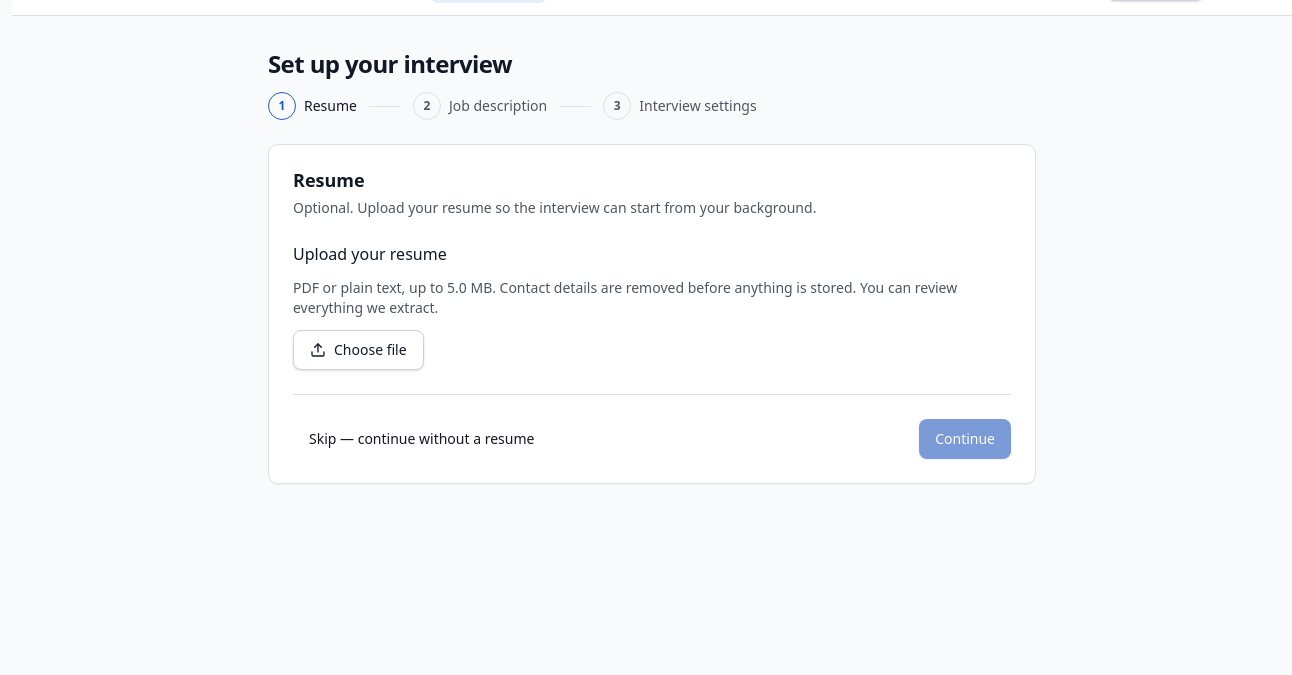
Test: setup wizard — interview settings › ignores a double click on start
Click the button "Skip — continue without a resume": (422, 438) [293,418,550,458]
(page scrolled)
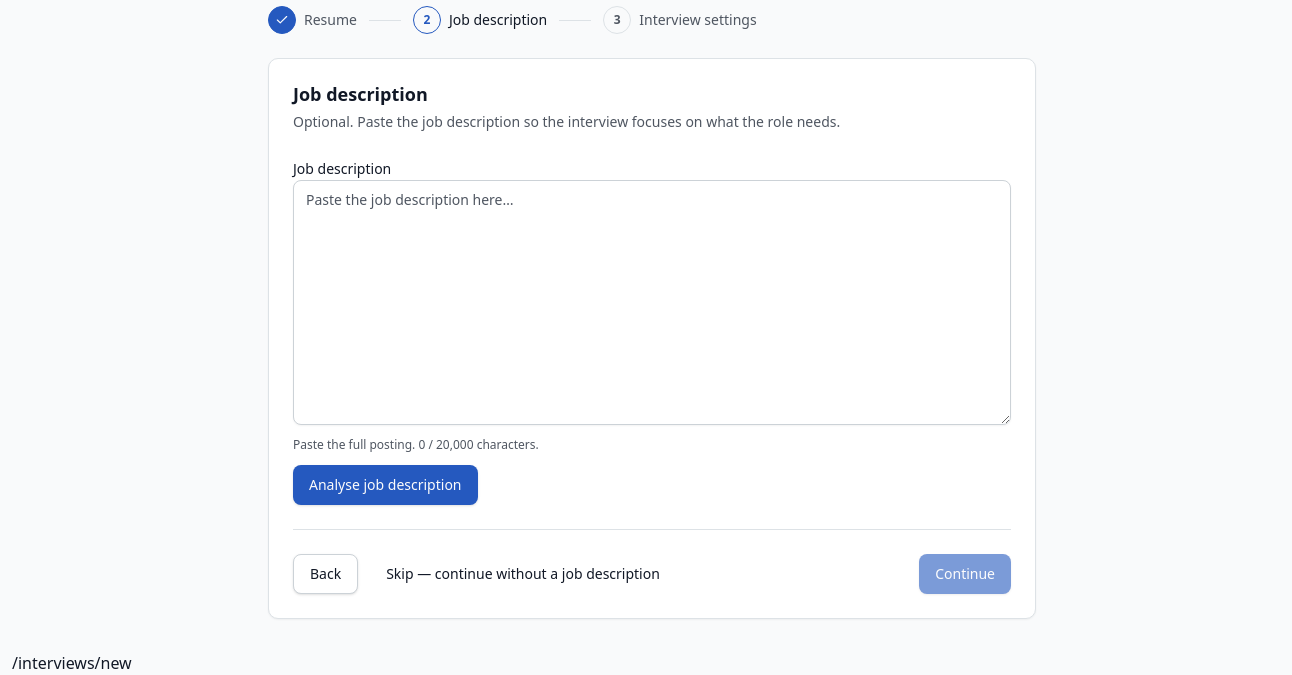
Click the button "Skip — continue without a job description": (523, 574) [370,554,676,594]
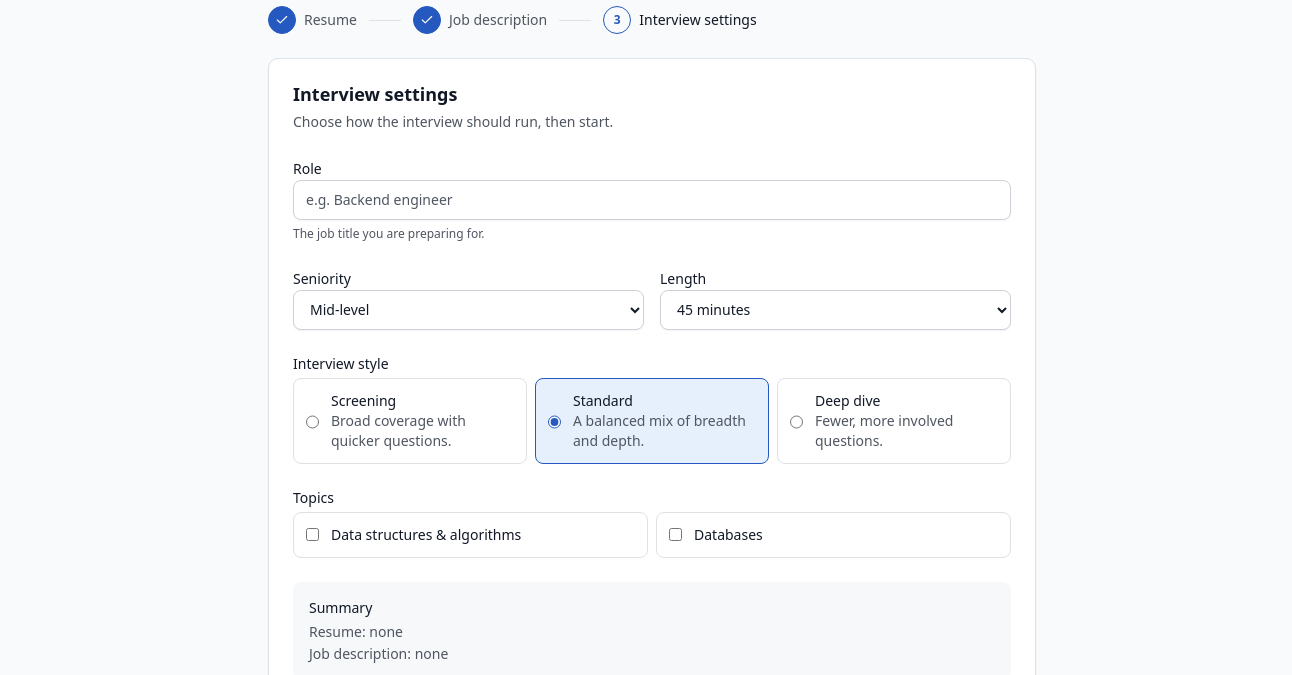
Result: the field labelled "Role" is shown
In the field labelled "Role": (652, 200) [293,180,1011,220], type "Engineer"
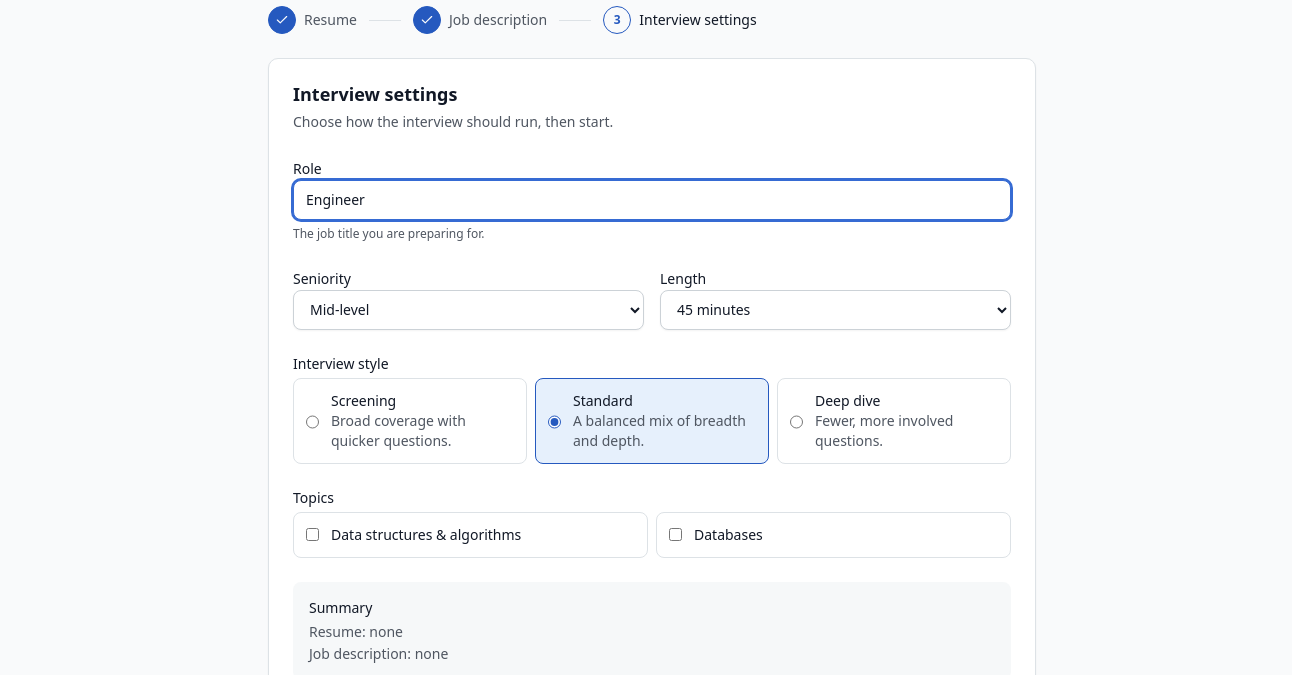
Click the checkbox labelled "Databases": (676, 534) [669,528,682,541]
(page scrolled)
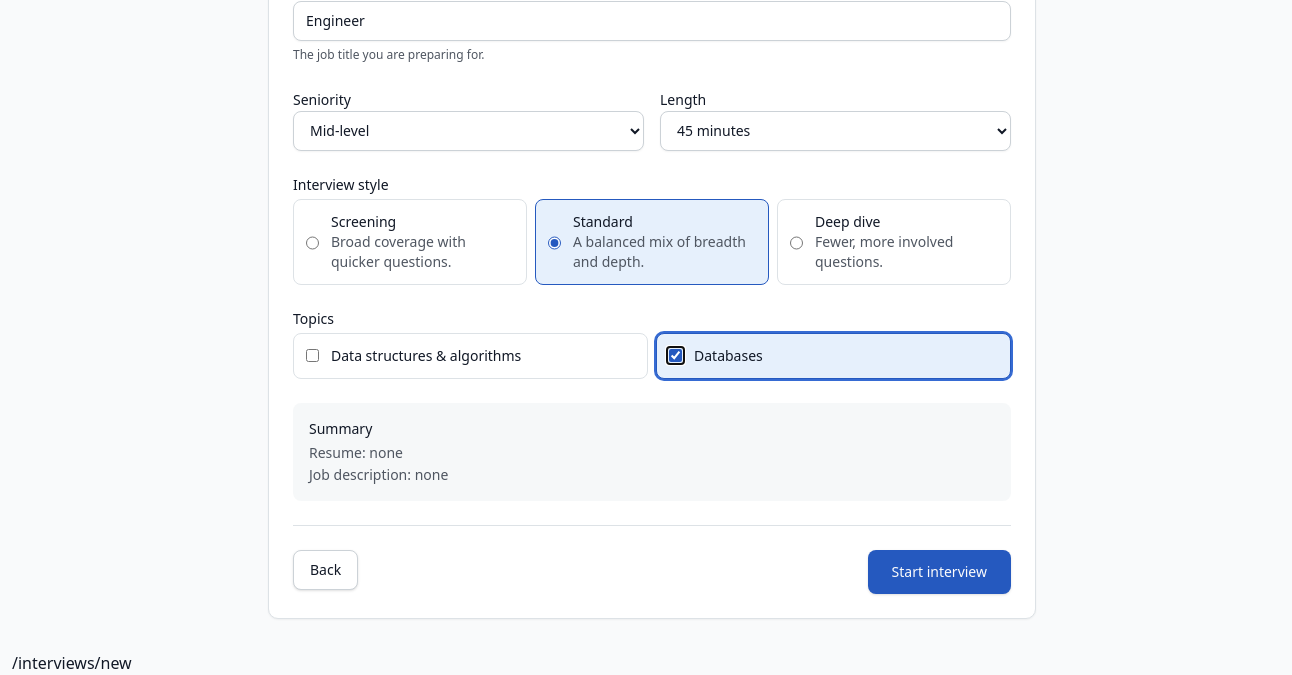
Double-click the button "Start interview": (939, 572) [868,550,1011,594]
(page scrolled)
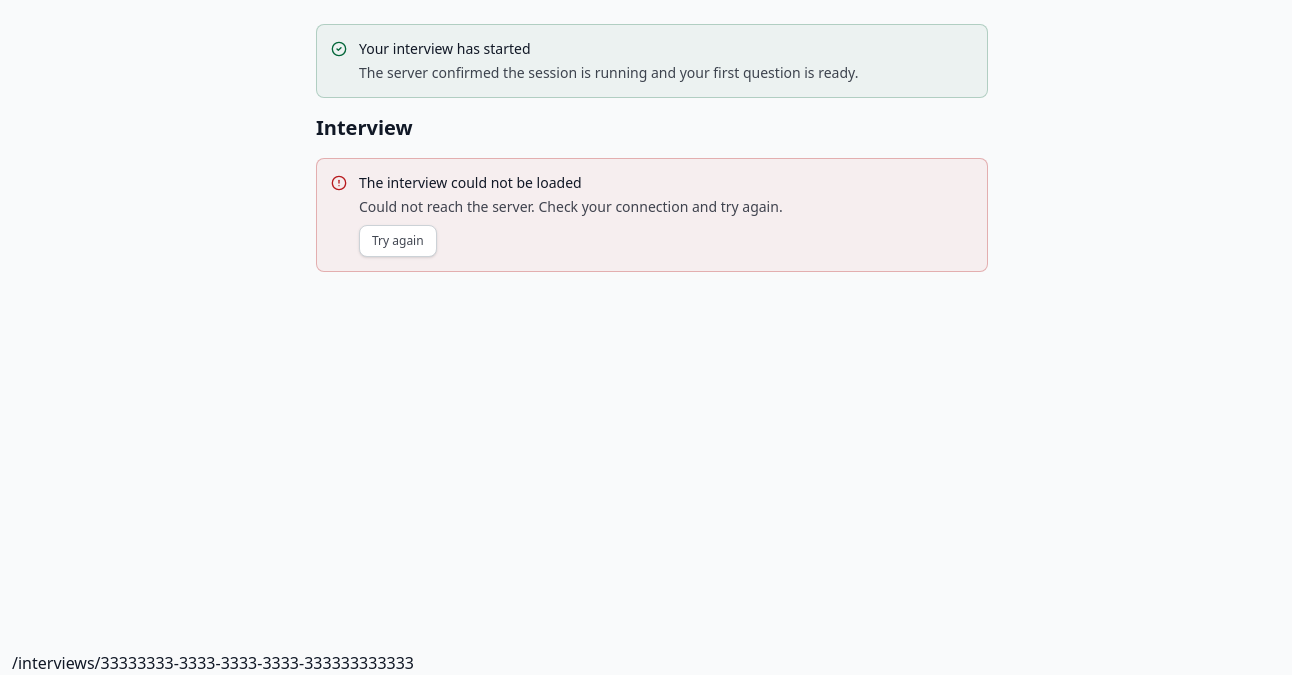
Result: the text "Your interview has started" is shown at [359,39,531,58]
